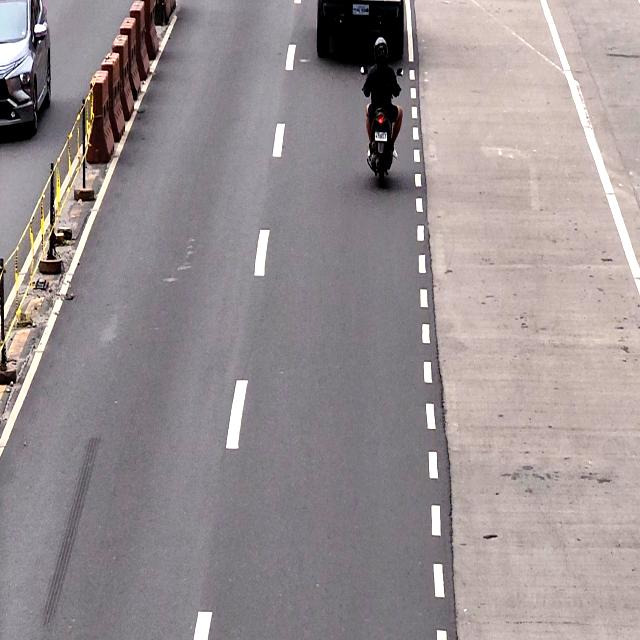License-Plate: (374, 130, 389, 143)
Motorcycle: (362, 38, 402, 186)
